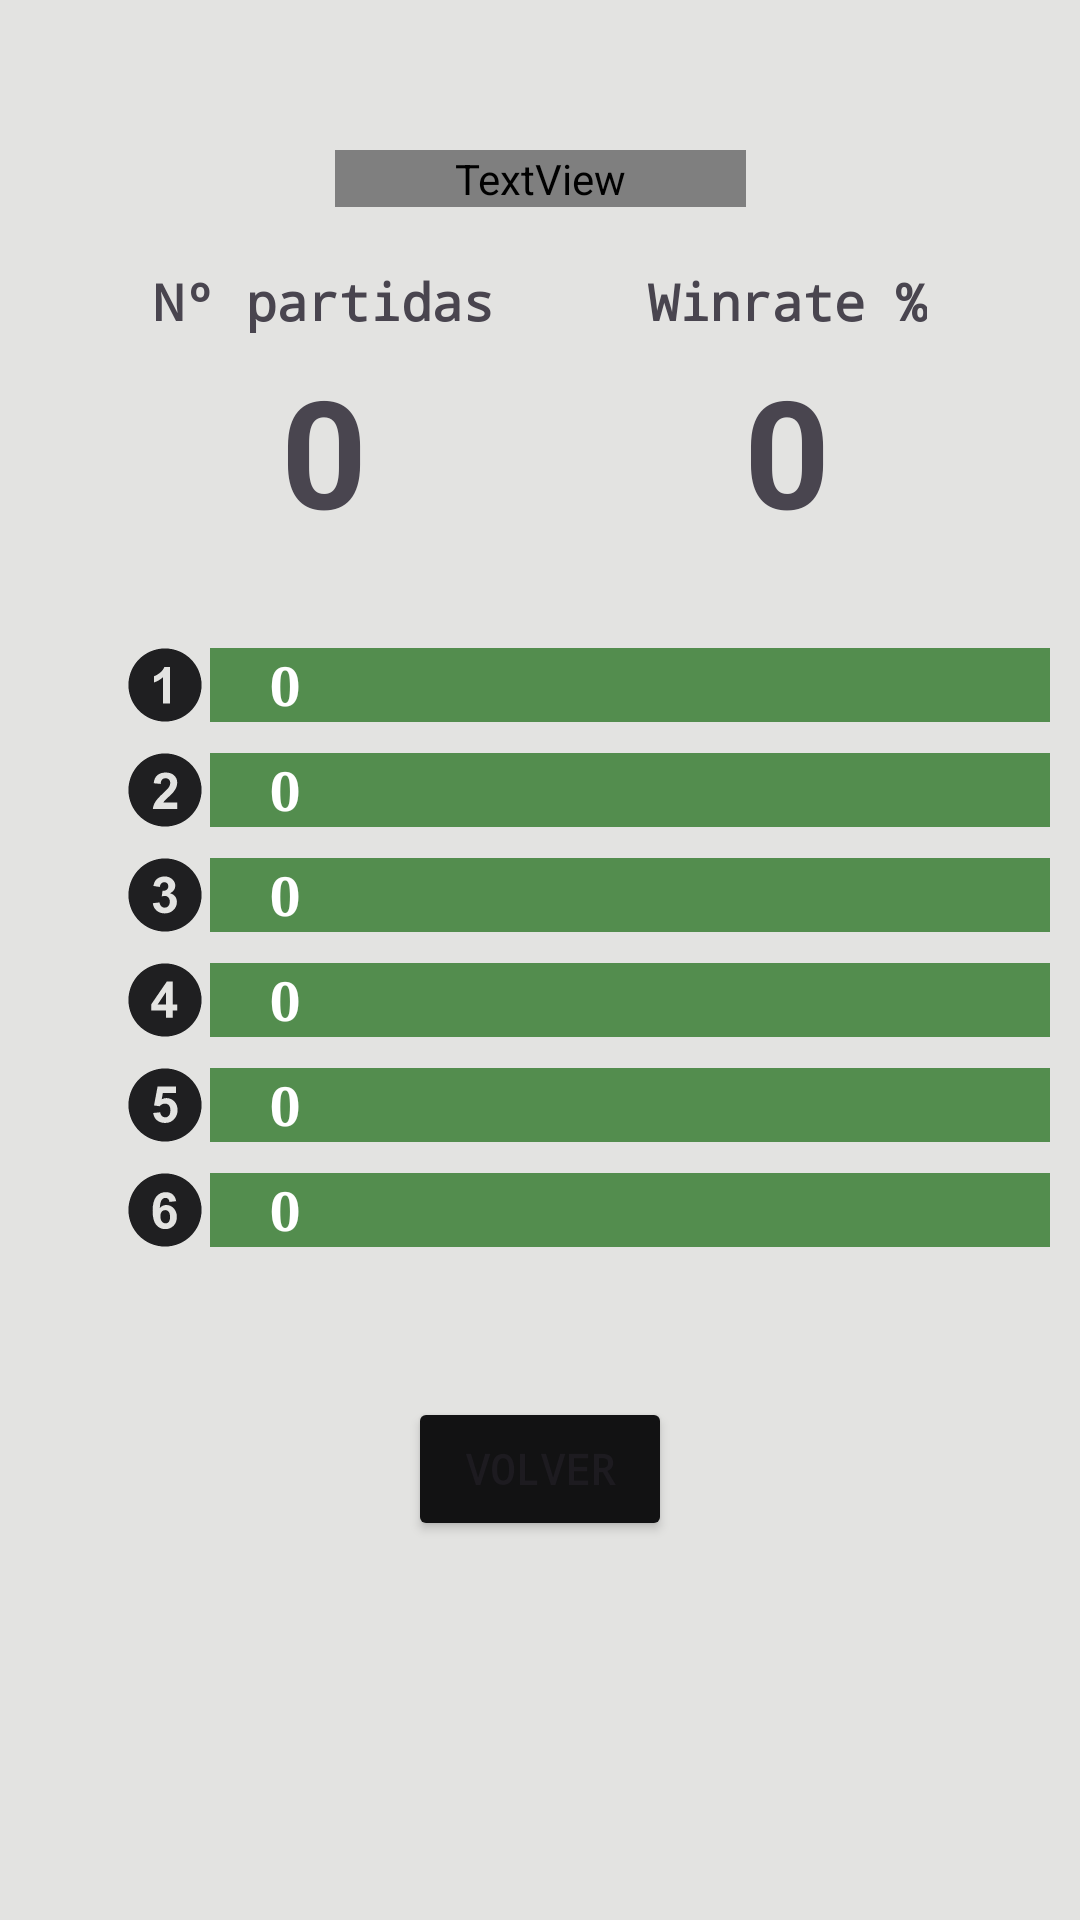

Screen size 1080×1920. Icon name, then its box in pixels as (x1, y1, x2, y2):
number: (128, 648, 202, 722), (128, 753, 202, 827), (128, 858, 202, 932), (128, 963, 202, 1037), (128, 1068, 202, 1142), (128, 1173, 202, 1247)
